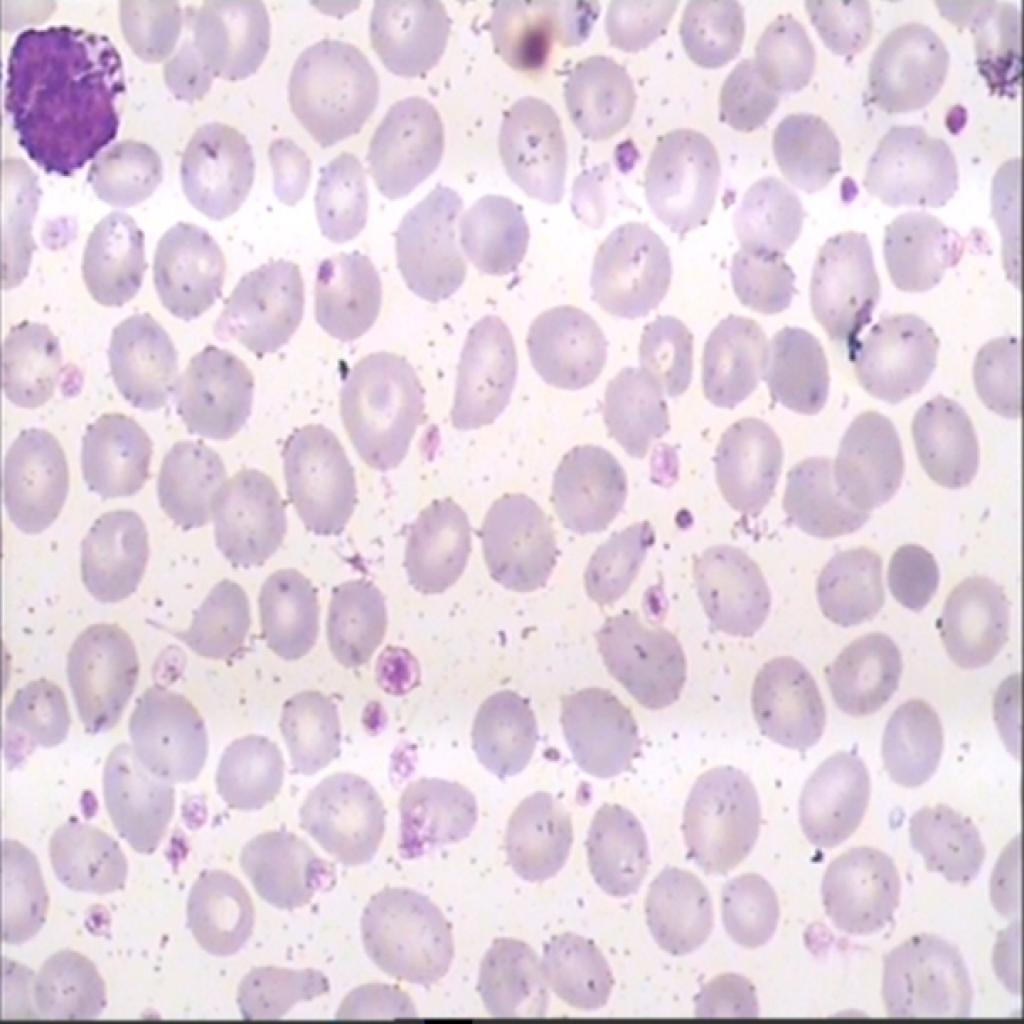Basofil: (0, 14, 135, 182)
Platelet: (370, 635, 429, 697), (834, 162, 884, 228), (603, 126, 664, 176), (78, 884, 120, 956), (170, 777, 220, 837), (149, 820, 195, 876), (72, 756, 106, 823), (933, 78, 969, 140), (630, 578, 673, 629), (650, 439, 698, 482), (658, 494, 702, 539), (353, 683, 387, 736), (570, 770, 604, 823), (532, 724, 560, 784), (60, 359, 96, 405), (36, 206, 76, 247), (311, 245, 343, 288)
